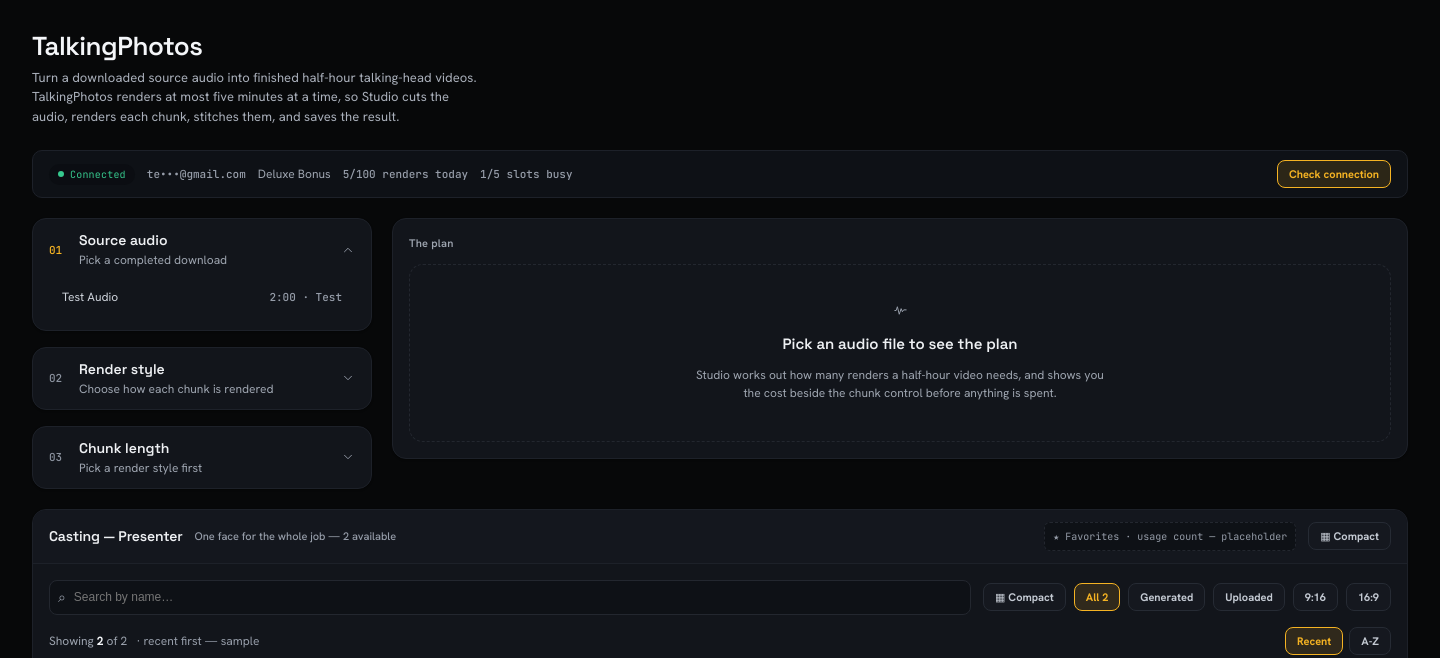
Test: presenter full catalog — Gender/Age/Ethnicity/Beard/Style + negativePrompt › shows all 6 controls in Step 04 and varies payload on change
The image size is (1440, 658).
Later steps or results of the test are not shown.
Click the button with class "tp-step-head" that starts with "Render style": (202, 378) [33,348,371,409]
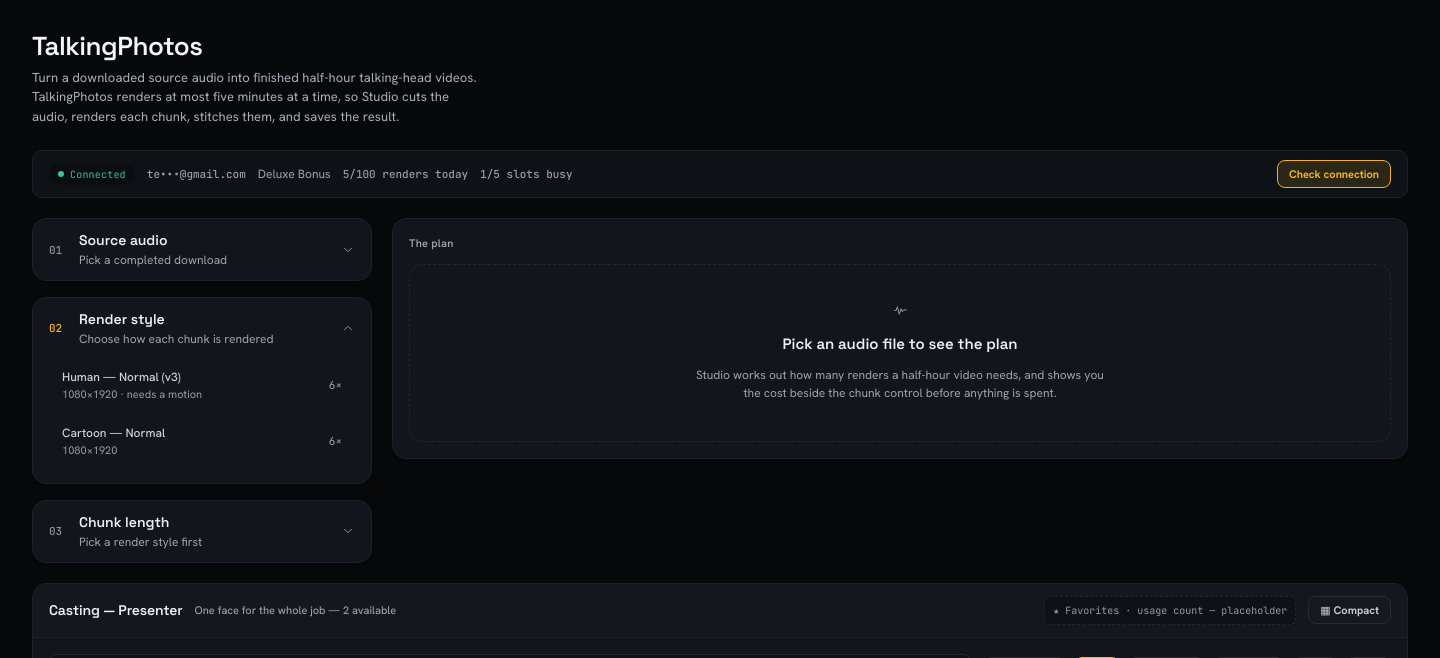
Expected: the button with class "tp-feature" that starts with "Human — Normal (v3)" is shown, [49,359,355,411]
